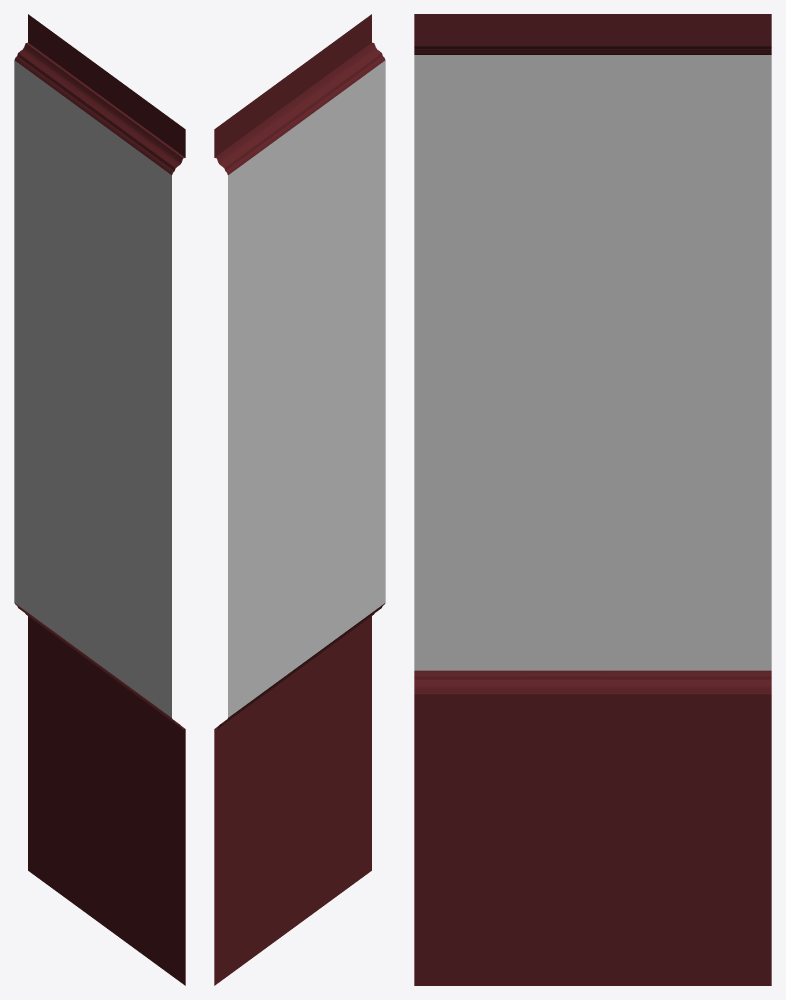
Rendered from sm_wall_100.fbx.
3 renders of one model, left to right at view 1: azimuth 30°, elevation 25°; view 2: azimuth 150°, elevation 25°; view 3: azimuth 270°, elevation 25°, orthographic. The views are drawn at different scales.
Parts seen in each view (by area): view 1: sm_wall_100; view 2: sm_wall_100; view 3: sm_wall_100.
Part boxes in pixels (x1,y1,x2,y2): sm_wall_100: [14, 14, 185, 985]; sm_wall_100: [214, 14, 385, 985]; sm_wall_100: [414, 14, 771, 985].
Bounding box in the file's own units: 5 × 300 × 100.
